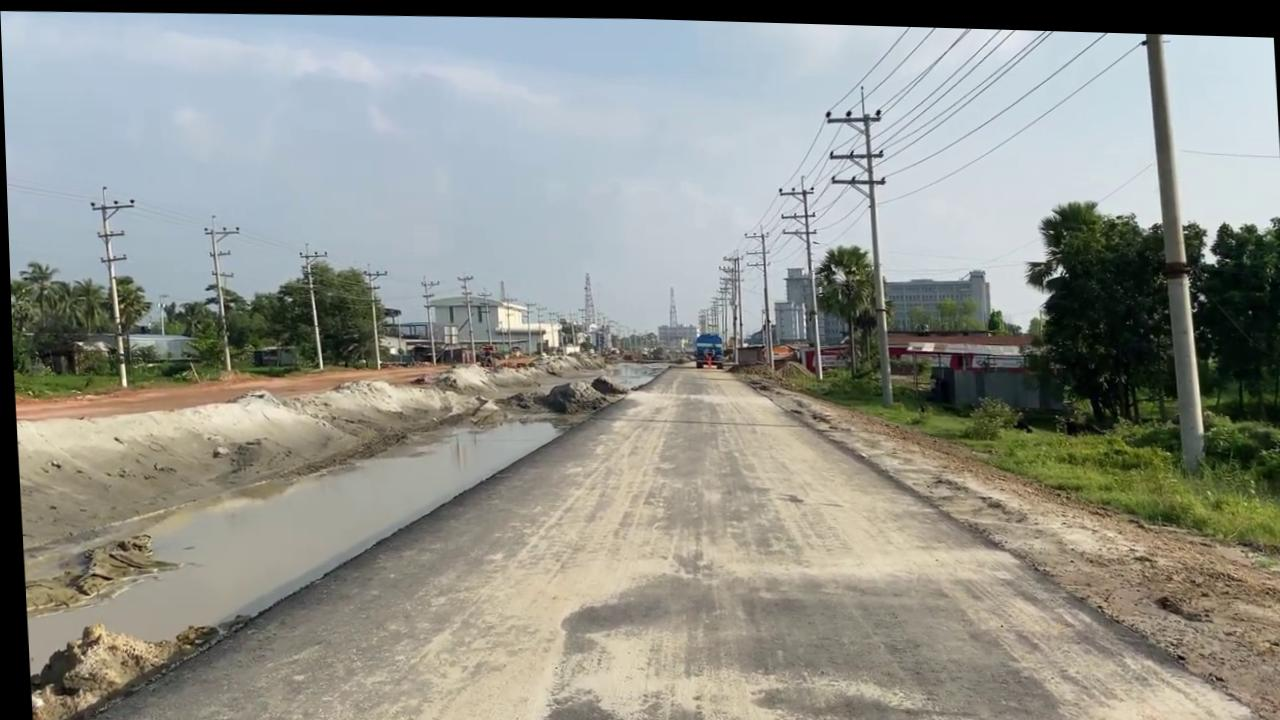Pole: (1143, 27, 1199, 448), (856, 77, 927, 391), (153, 184, 203, 377), (257, 210, 298, 364)
Rickshaw: (322, 279, 1267, 720)
Sidewalk: (13, 380, 617, 607)
Traffic-sign: (1049, 181, 1243, 410), (847, 229, 934, 364)
Tree: (730, 321, 761, 356), (302, 334, 345, 358)
